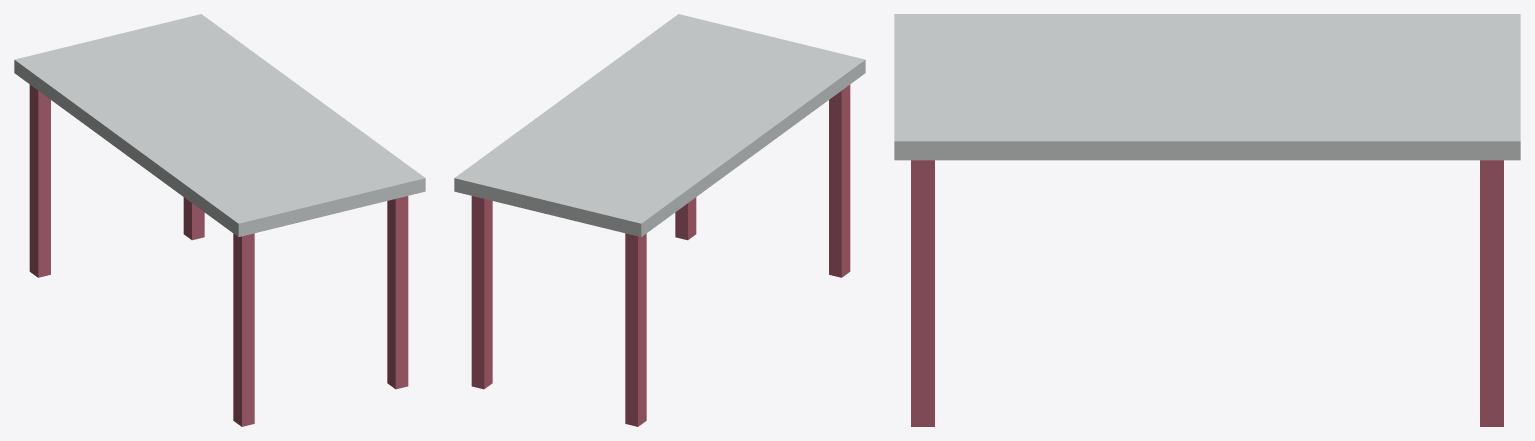
File: mesa_prof.fbx
3 renders of one model, left to right at view 1: azimuth 30°, elevation 25°; view 2: azimuth 150°, elevation 25°; view 3: azimuth 270°, elevation 25°, orthographic. The views are drawn at different scales.
Parts seen in each view (by area): view 1: Mesa_prof; view 2: Mesa_prof; view 3: Mesa_prof.
Part boxes in pixels (bbox=[...]): Mesa_prof: bbox=[14, 14, 425, 426]; Mesa_prof: bbox=[454, 14, 865, 426]; Mesa_prof: bbox=[894, 14, 1520, 426].
Bounding box in the file's own units: 96.32 × 103 × 200.
